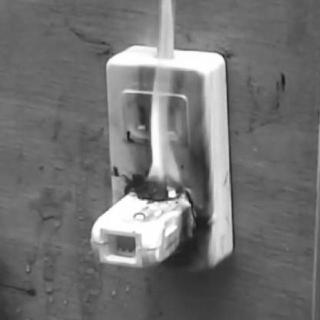Fire: (132, 45, 186, 207)
